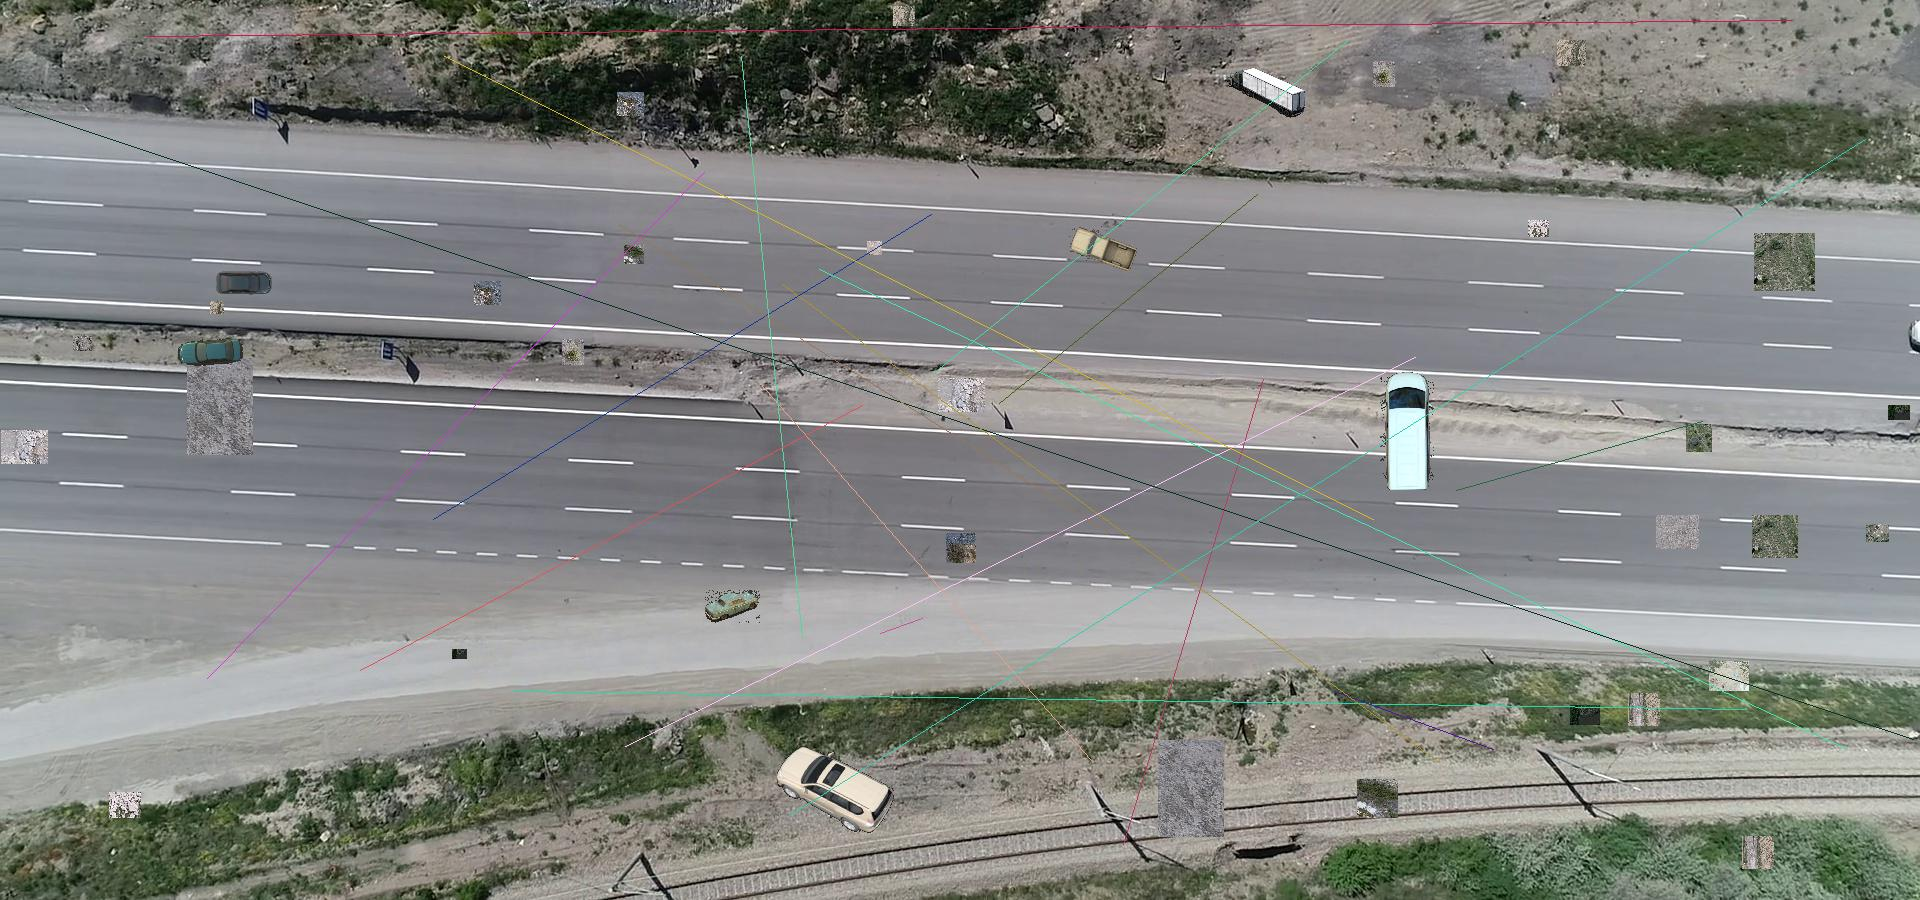arac: (771, 740, 895, 833), (1380, 370, 1434, 492), (1223, 61, 1307, 118), (1069, 227, 1138, 271), (705, 590, 760, 624), (178, 338, 242, 366), (216, 269, 272, 295)
